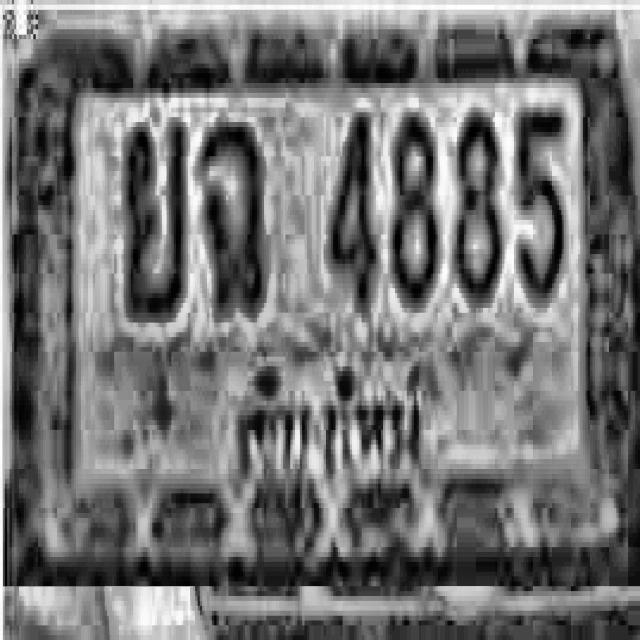license-plate: (9, 36, 640, 598)
